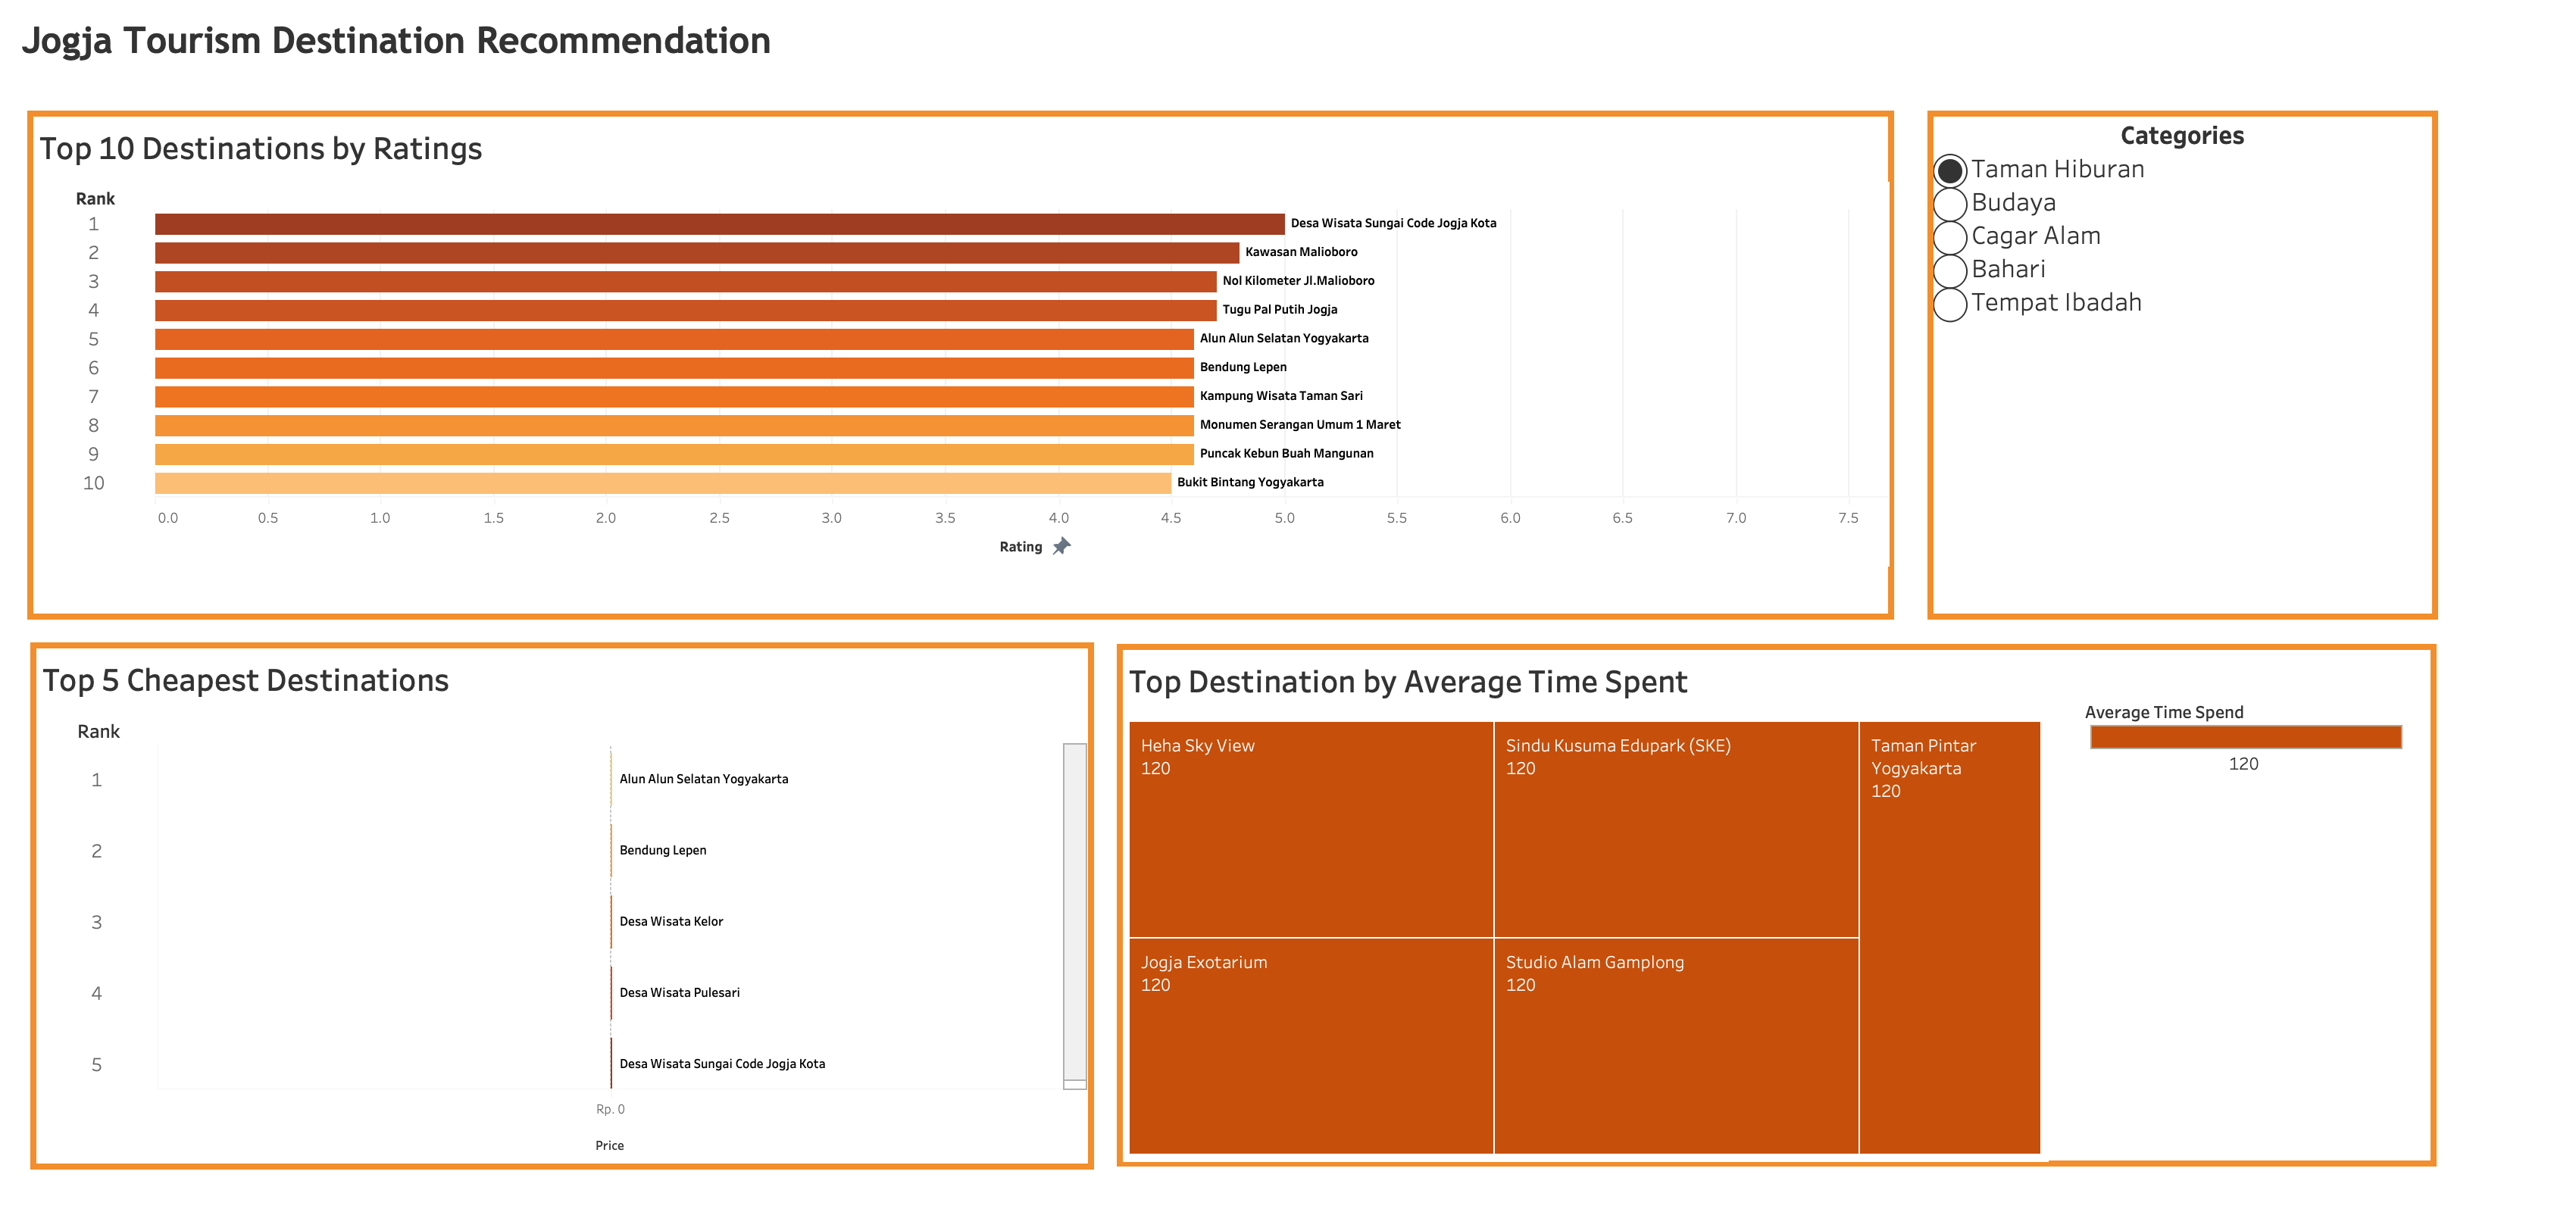

What the dashboard file says about the page in this screenshot:
{"tool":"tableau","page":{"name":"Dash Board Jogja","canvas":[1700,800],"ordinal":2},"visuals":[{"type":"title","box":[8,8,1684,50]},{"type":"blank","box":[60,60,542,266]},{"type":"worksheet","title":"Top Rated Places (Jogja)","mark":"Automatic","cols":["Rating"],"box":[18,73,1232,336]},{"type":"parameter","param":"[Parameters].[Parameter 1]","box":[1272,73,337,336]},{"type":"worksheet","title":"Cheapest Places (Jogja) ","mark":"Automatic","cols":["Price"],"box":[20,424,702,348]},{"type":"worksheet","title":"Average Time Spend (Jogja)","mark":"Automatic","box":[737,425,871,345]},{"type":"legend","title":"Average Time Spend (Jogja)","param":"[federated.07echau0cc9wpq1a99yee0hrih15].[usr:Calculation_1931199867067944968:qk","box":[1376,458,214,92]}]}

Visuals, with their boxes in screenshot pixels (x1, y1, x2, y2), scaled from the page's 1700x800 canvas onto the 2576x1212 screenshot:
title: (x1=12, y1=12, x2=2564, y2=88)
blank: (x1=91, y1=91, x2=912, y2=494)
"Top Rated Places (Jogja)" worksheet: (x1=27, y1=111, x2=1894, y2=620)
parameter: (x1=1927, y1=111, x2=2438, y2=620)
"Cheapest Places (Jogja) " worksheet: (x1=30, y1=642, x2=1094, y2=1170)
"Average Time Spend (Jogja)" worksheet: (x1=1117, y1=644, x2=2437, y2=1167)
"Average Time Spend (Jogja)" legend: (x1=2085, y1=694, x2=2409, y2=833)
